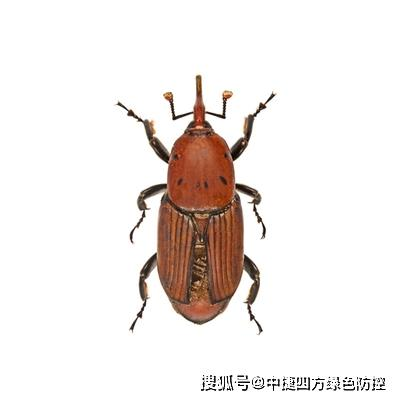Curculionidae: (114, 74, 277, 336)
